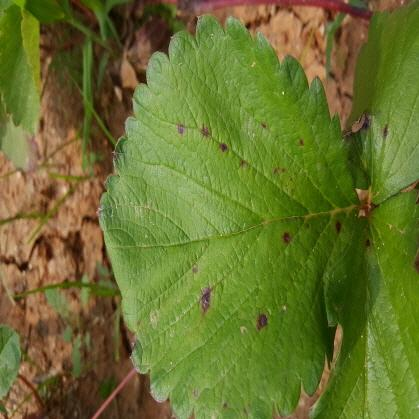Leaf Spot: (96, 13, 364, 418), (309, 190, 418, 418), (343, 0, 418, 204)
